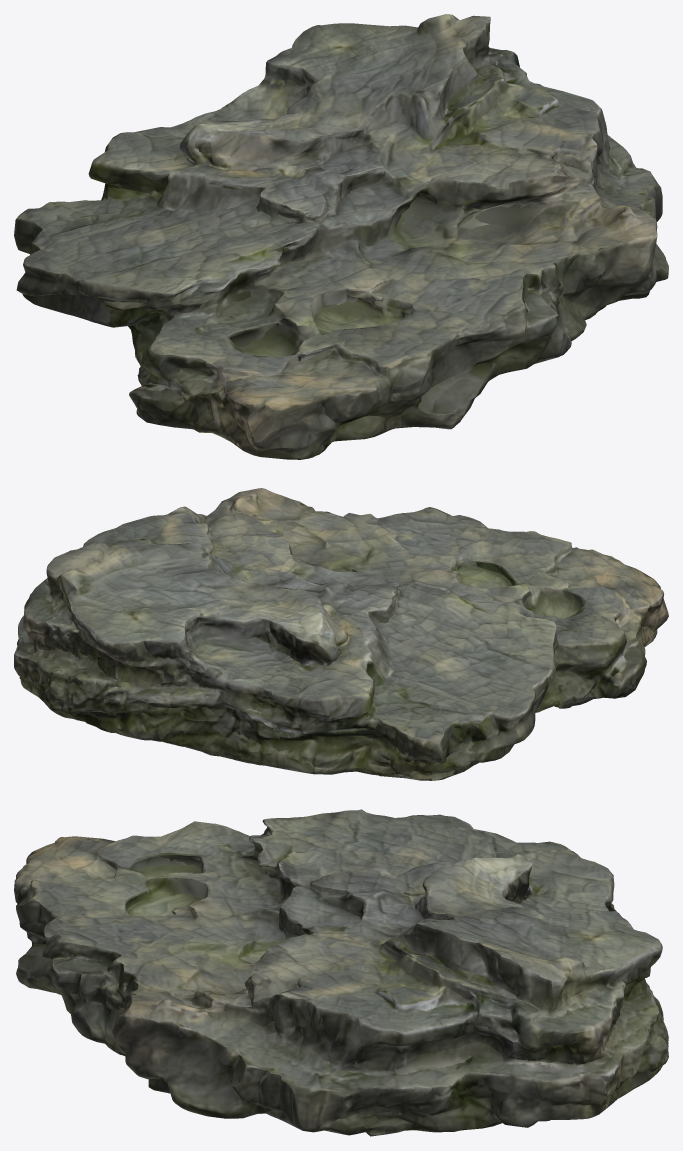
The model's file is tidal-reef-v001.glb.
The picture shows the model from 3 angles, top to bottom: view 1: azimuth 30°, elevation 25°; view 2: azimuth 150°, elevation 25°; view 3: azimuth 270°, elevation 25°; orthographic projection. The views are drawn at different scales.
Parts seen in each view (by area): view 1: geometry_0; view 2: geometry_0; view 3: geometry_0.
Boxes of the visible parts, x1=… form: geometry_0: x1=14, y1=14, x2=668, y2=459; geometry_0: x1=14, y1=488, x2=668, y2=780; geometry_0: x1=14, y1=809, x2=668, y2=1136.
Bounding box in the file's own units: 1.2 × 0.3345 × 1.18.
1 material, 1 textured.
